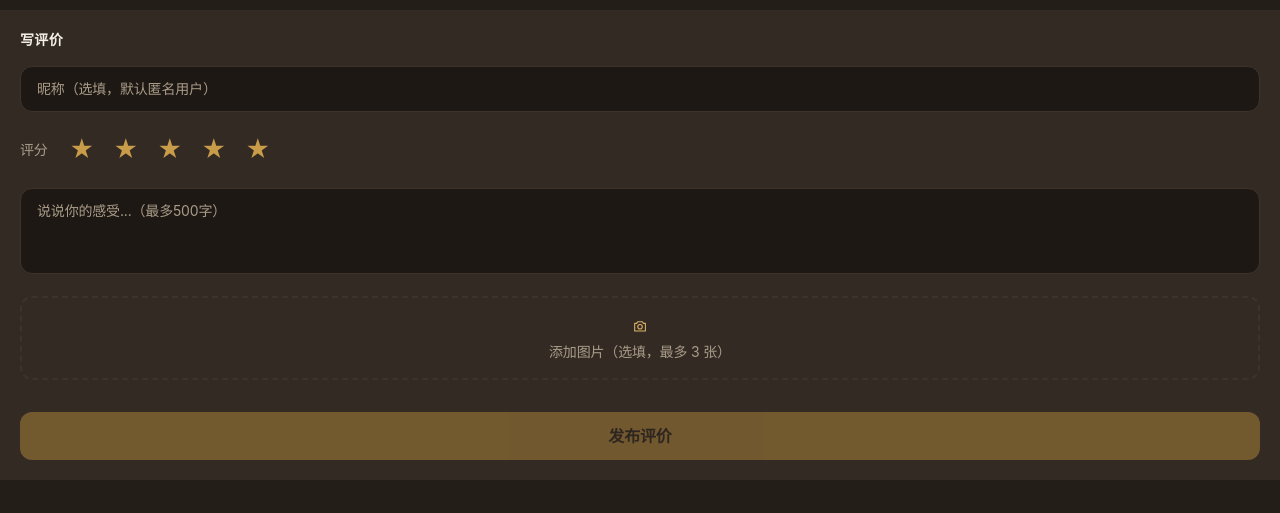
Test case: 提交校验 › 发布失败 → 播报服务端原因且不刷新列表
Type "x" into the text box named "评价内容（最多 500 字）" at (640, 231), box [20,188,1260,274]
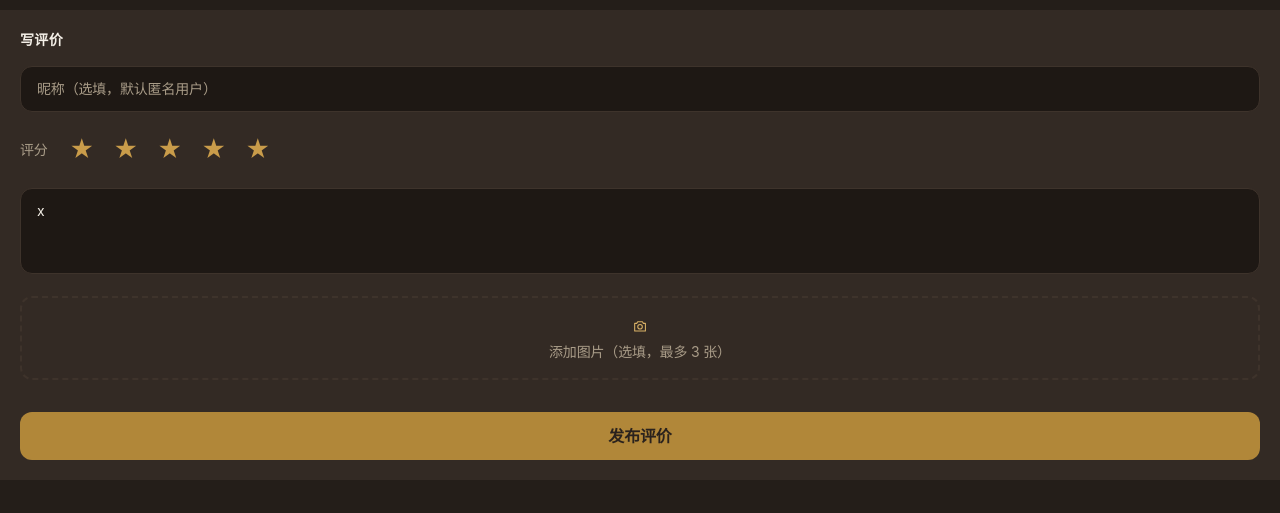
Click the button "发布评价" at (640, 436), box [20,412,1260,460]
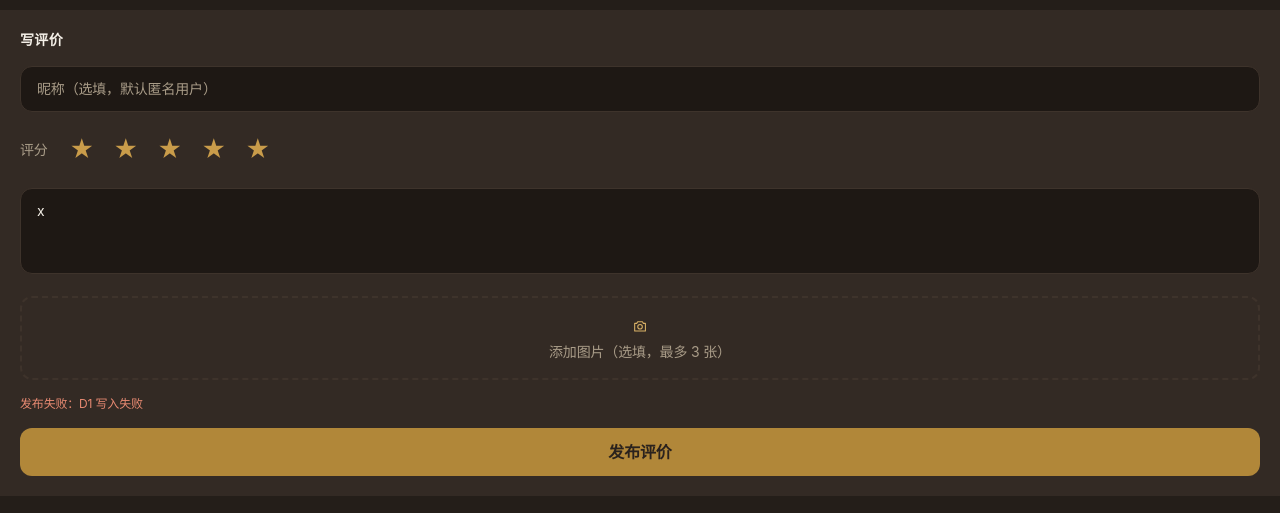
Expected: the message reads "发布失败：D1 写入失败", [20,396,143,411]
